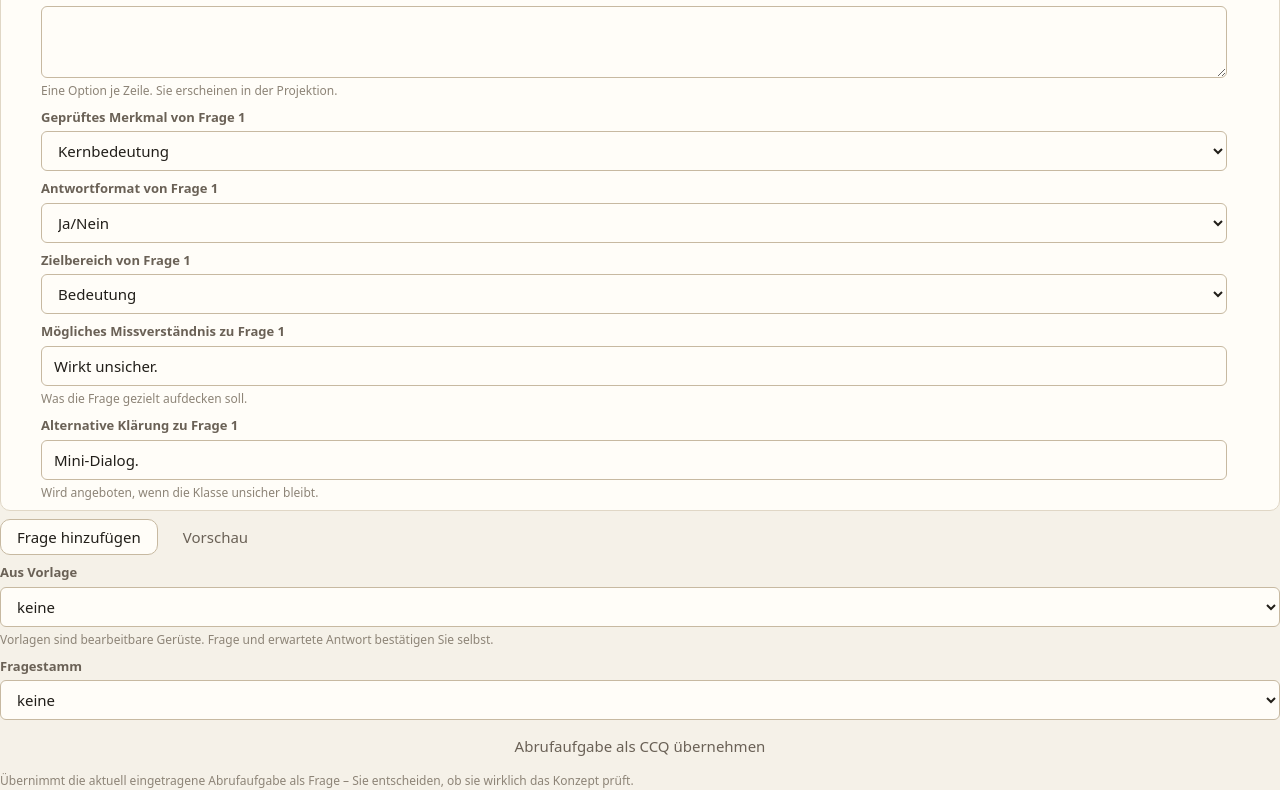
CCQ-Editor › zeigt in der Vorschau nur die Klassenansicht
(page scrolled)
What coordinates should you click on to do the following:
click the button "Vorschau"
I would click on:
 (215, 537)
Its box is x1=166 y1=519 x2=265 y2=555.
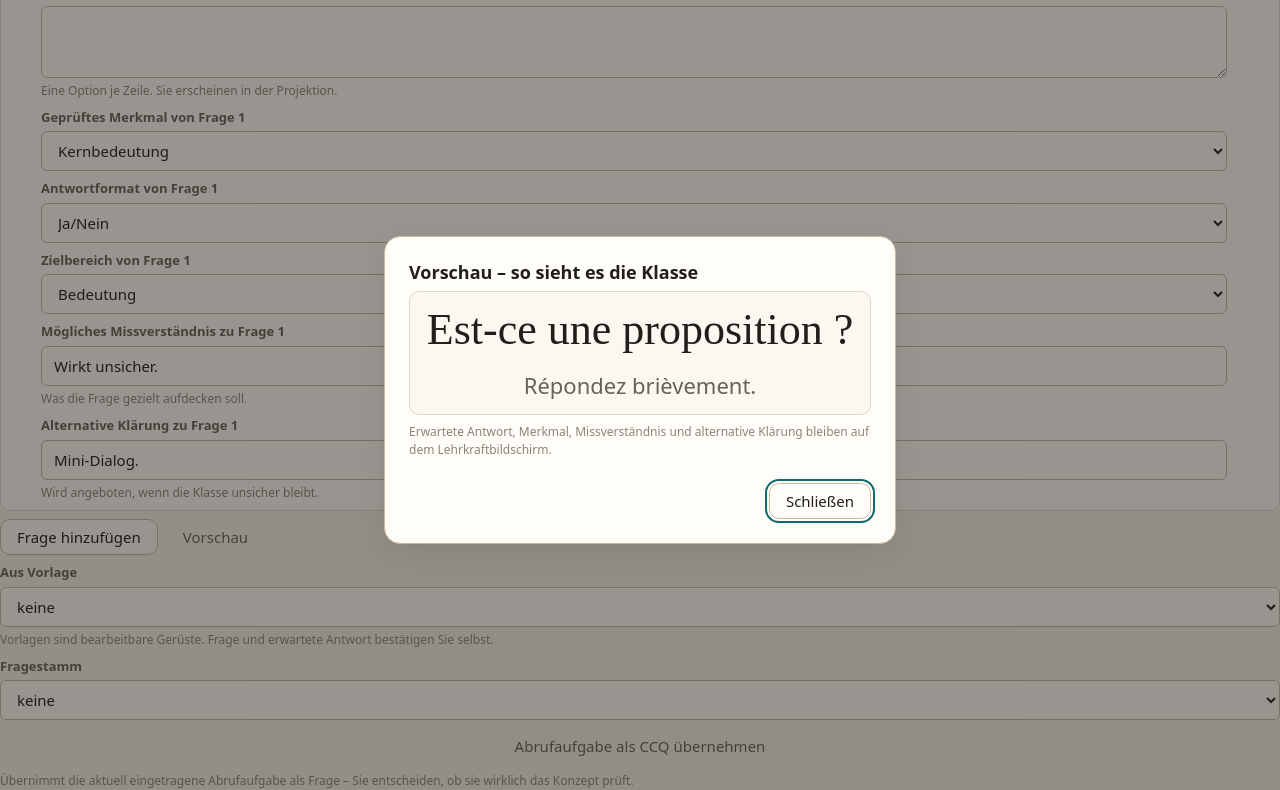
Expected: the dialog does not show "Erwartet: Oui.", x1=384 y1=236 x2=896 y2=544
Now the dialog shows "Est-ce une proposition ?", box x1=427 y1=305 x2=853 y2=354
